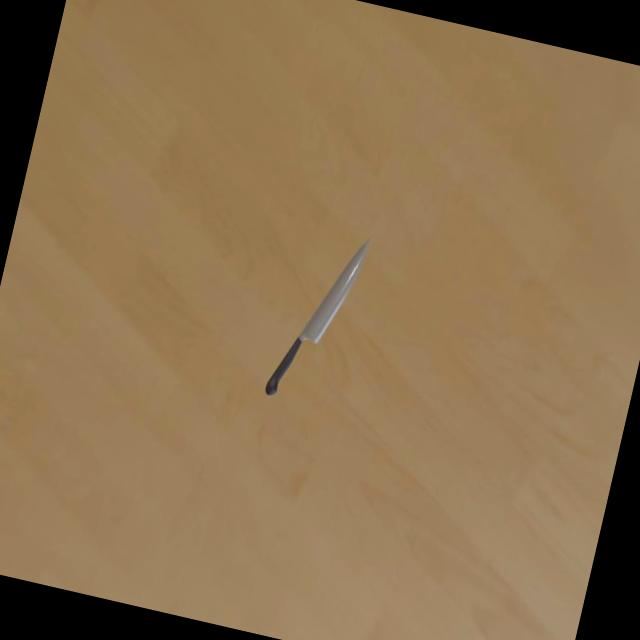knife: (263, 332, 303, 400)
